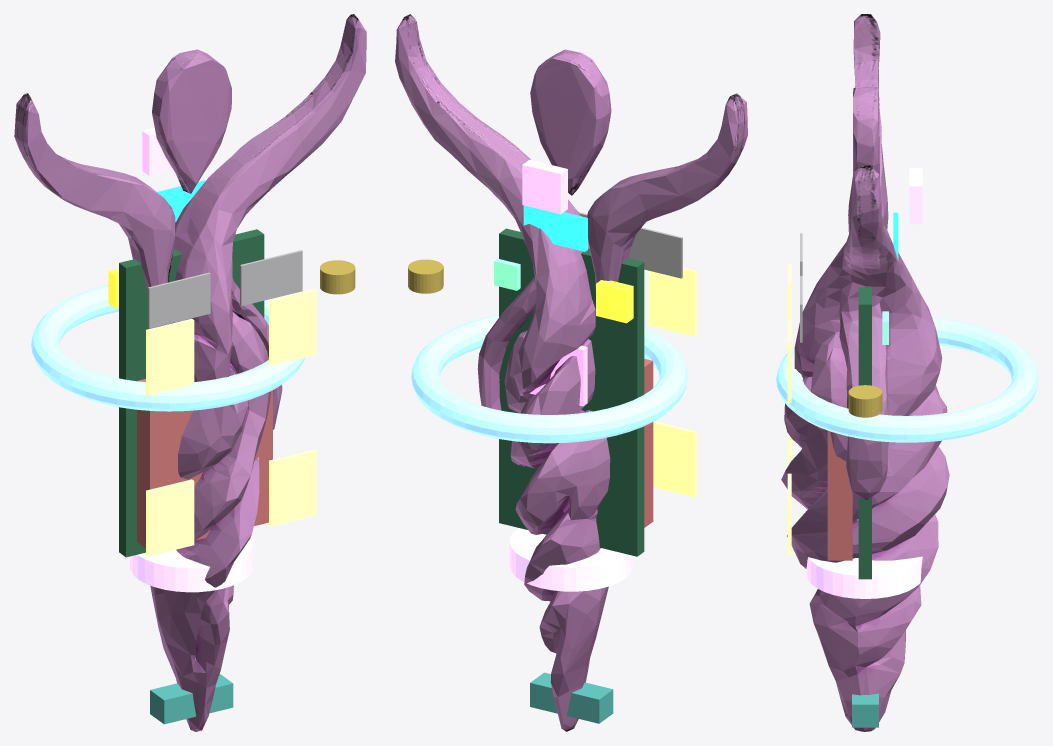
Rendered from flowbond-wearable-final.glb.
The picture shows the model from 3 angles, left to right: view 1: azimuth 30°, elevation 25°; view 2: azimuth 150°, elevation 25°; view 3: azimuth 270°, elevation 25°; orthographic projection. The views are drawn at different scales.
Parts seen in each view (by area): view 1: DANZ_Case, NFC_Antenna_Loop, PCB_MainBoard, LiPo_200mAh, Haptic_LRA_Motor, IBC_RX_Plus, IBC_TX_Plus, IBC_TX_Minus, IBC_RX_Minus, CapTouch_Pad_2, CapTouch_Pad_1, USB_C_Port (+3 smaller); view 2: DANZ_Case, PCB_MainBoard, NFC_Antenna_Loop, Haptic_LRA_Motor, IBC_TX_Plus, IBC_RX_Plus, USB_C_Port, WS2812B_RGB_LED, CapTouch_Pad_1, BLE_53_Antenna, AHT10_TempHumid, LiPo_200mAh (+3 smaller); view 3: DANZ_Case, NFC_Antenna_Loop, Haptic_LRA_Motor, LiPo_200mAh, PCB_MainBoard, User_Button, USB_C_Port, WS2812B_RGB_LED.
Part boxes in pixels (x1,y1,x2,y2): DANZ_Case: (14, 14, 366, 731); NFC_Antenna_Loop: (31, 285, 304, 411); PCB_MainBoard: (119, 229, 264, 557); LiPo_200mAh: (137, 358, 272, 547); Haptic_LRA_Motor: (129, 536, 253, 592); IBC_RX_Plus: (146, 318, 194, 395); IBC_TX_Plus: (146, 479, 194, 556); IBC_TX_Minus: (269, 449, 316, 526); IBC_RX_Minus: (269, 288, 316, 365); CapTouch_Pad_2: (240, 250, 302, 305); CapTouch_Pad_1: (148, 272, 210, 328); USB_C_Port: (150, 674, 233, 724); DANZ_Case: (395, 14, 747, 731); PCB_MainBoard: (499, 228, 644, 556); NFC_Antenna_Loop: (411, 314, 687, 443); Haptic_LRA_Motor: (509, 528, 633, 591); IBC_TX_Plus: (653, 421, 697, 497); IBC_RX_Plus: (649, 267, 697, 336); USB_C_Port: (530, 672, 613, 723); WS2812B_RGB_LED: (522, 159, 567, 214); CapTouch_Pad_1: (629, 227, 682, 278); BLE_53_Antenna: (523, 205, 587, 251); AHT10_TempHumid: (596, 280, 633, 323); LiPo_200mAh: (644, 359, 653, 527); DANZ_Case: (781, 14, 949, 731); NFC_Antenna_Loop: (776, 317, 1038, 442); Haptic_LRA_Motor: (806, 556, 922, 598); LiPo_200mAh: (827, 407, 852, 560); PCB_MainBoard: (858, 287, 871, 579); User_Button: (848, 385, 882, 417); USB_C_Port: (852, 693, 878, 727); WS2812B_RGB_LED: (909, 168, 922, 224).
Bounding box in the file's own units: 0.0222 × 0.042 × 0.0156.
Materials: 14 (1 with a texture image).
